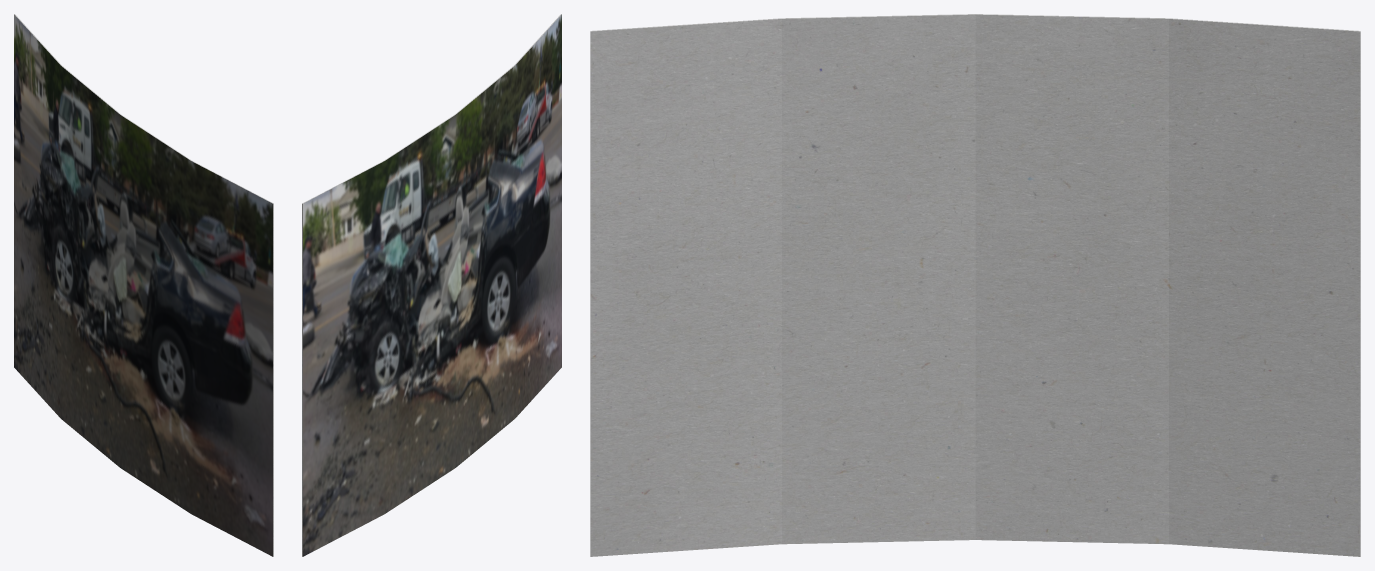
Rendered from Car Crash photo.FBX.
3 views of the same model, side by side, from view 1: azimuth 30°, elevation 25°; view 2: azimuth 150°, elevation 25°; view 3: azimuth 270°, elevation 25° (orthographic). The views are drawn at different scales.
Visible parts, largest first — view 1: photo; view 2: photo; view 3: photo.
Part boxes in pixels (x1,y1,x2,y2): photo: [14, 14, 273, 556]; photo: [302, 14, 561, 556]; photo: [590, 14, 1360, 556].
Size of the model in its own units: 0.3598 by 5 by 6.64.
Materials: 2 (2 with a texture image).
